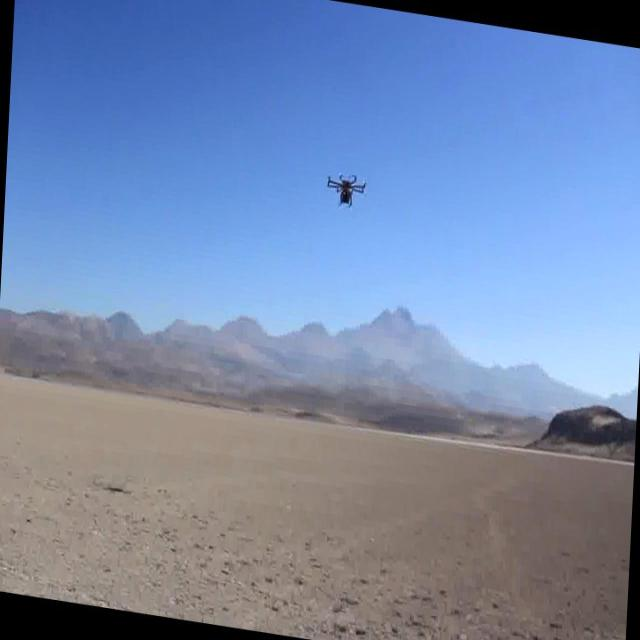drone: (324, 162, 369, 218)
